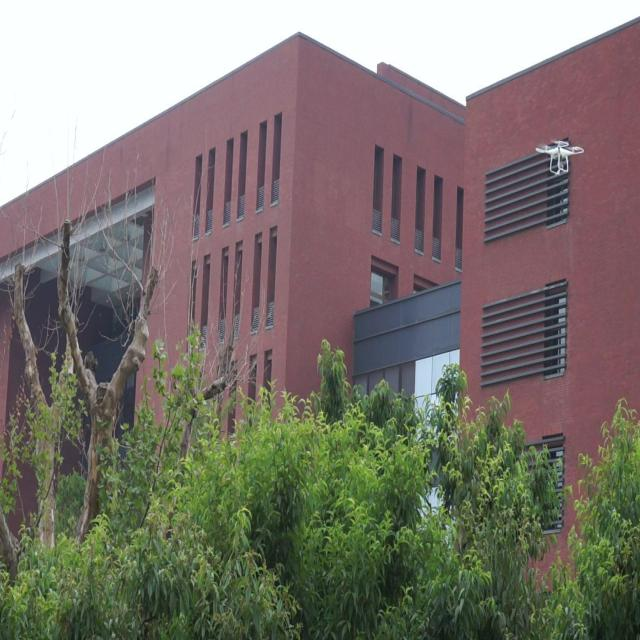drone: (535, 138, 583, 178)
